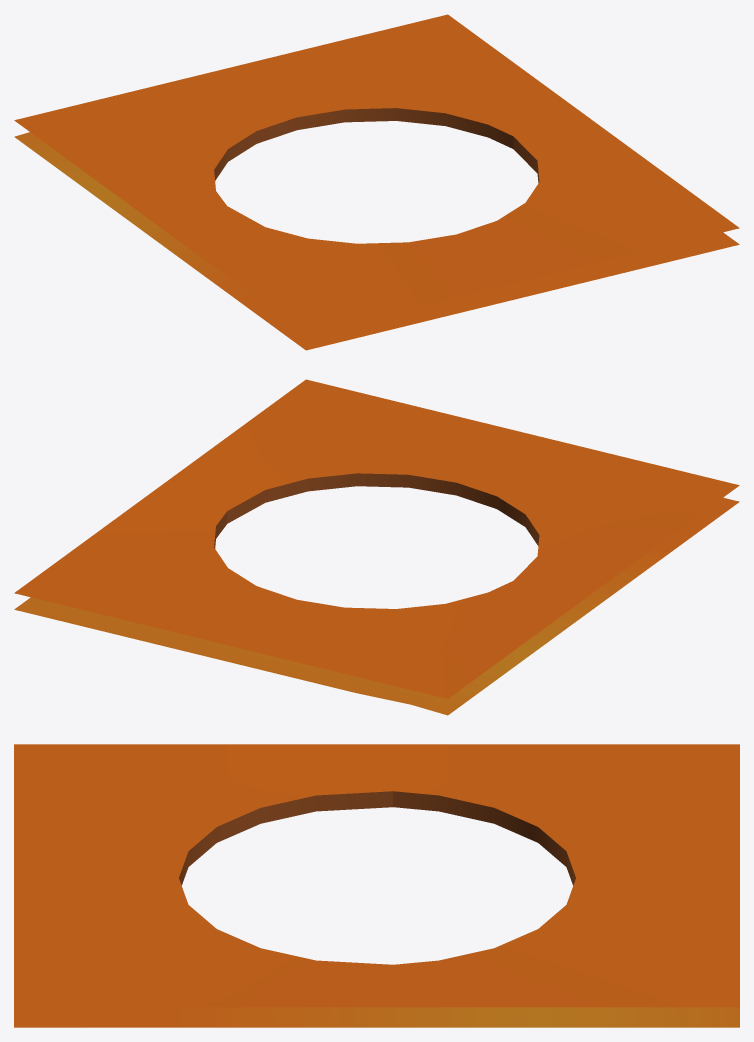
Rendered from ceiling.fbx.
The picture shows the model from 3 angles, top to bottom: view 1: azimuth 30°, elevation 25°; view 2: azimuth 150°, elevation 25°; view 3: azimuth 270°, elevation 25°; orthographic projection. The views are drawn at different scales.
Visible parts, largest first — view 1: pCube7; view 2: pCube7; view 3: pCube7.
Part boxes in pixels (box(x1,y1,x2,y2)): pCube7: box(14, 14, 739, 350); pCube7: box(14, 379, 739, 715); pCube7: box(14, 744, 739, 1027).
Bounding box in the file's own units: 39.82 × 1.44 × 46.42.
